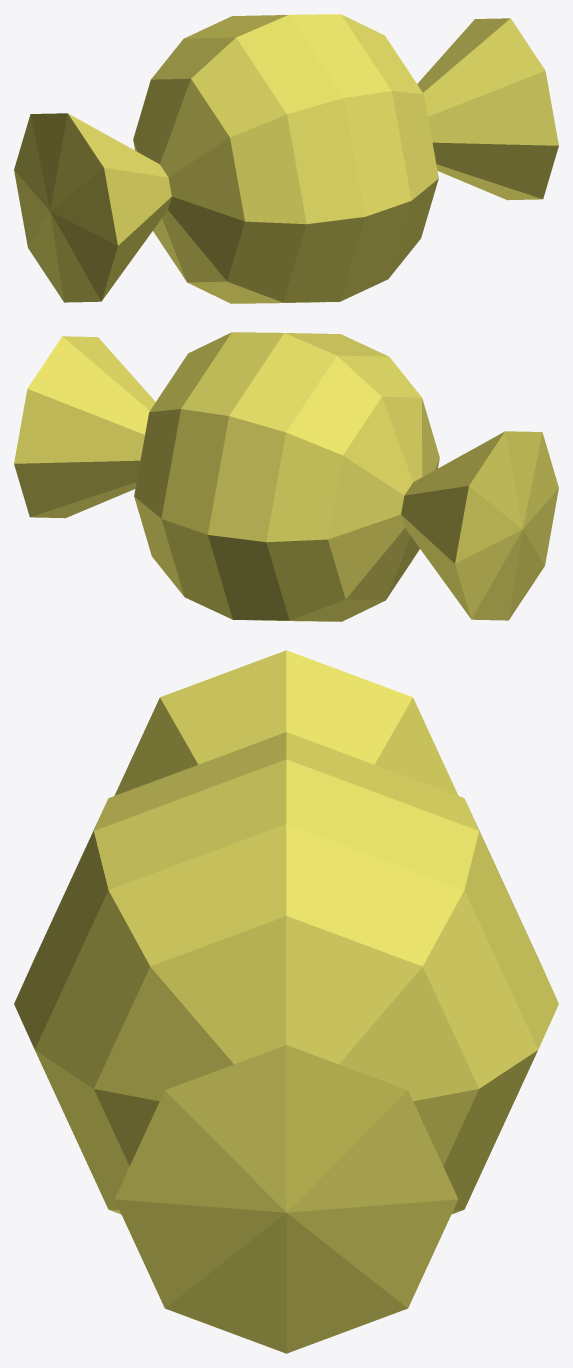
File: Candy.fbx
The picture shows the model from 3 angles, top to bottom: view 1: azimuth 30°, elevation 25°; view 2: azimuth 150°, elevation 25°; view 3: azimuth 270°, elevation 25°; orthographic projection. The views are drawn at different scales.
Visible parts, largest first — view 1: pSphere1; view 2: pSphere1; view 3: pSphere1.
Boxes of the visible parts, x1=… form: pSphere1: x1=14, y1=14, x2=558, y2=303; pSphere1: x1=14, y1=332, x2=558, y2=621; pSphere1: x1=14, y1=650, x2=558, y2=1353.
Size of the model in its own units: 0.0198 by 0.0114 by 0.0114.
